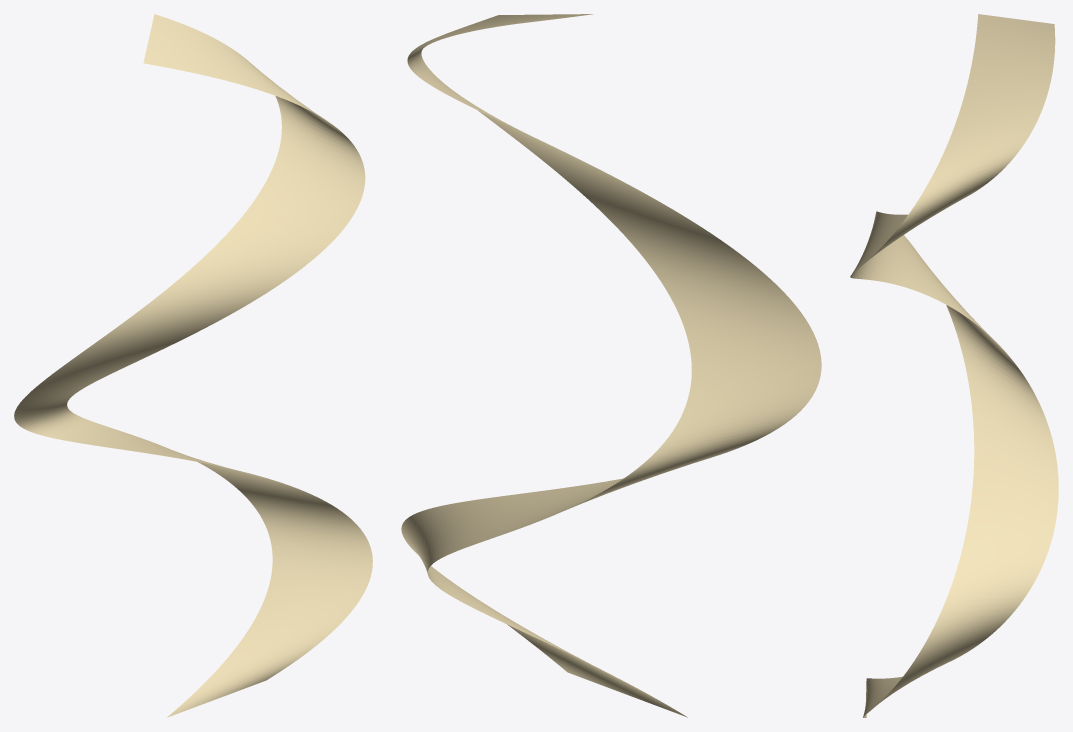
File: sculptural-ribbon.glb
The picture shows the model from 3 angles, left to right: view 1: azimuth 30°, elevation 25°; view 2: azimuth 150°, elevation 25°; view 3: azimuth 270°, elevation 25°; orthographic projection. The views are drawn at different scales.
Parts seen in each view (by area): view 1: ribbon-0; view 2: ribbon-0; view 3: ribbon-0.
Part boxes in pixels (x1,y1,x2,y2): ribbon-0: (14,14,372,717); ribbon-0: (401,14,821,717); ribbon-0: (850,14,1058,717).
Bounding box in the file's own units: 1.67 × 2.86 × 0.7795.
